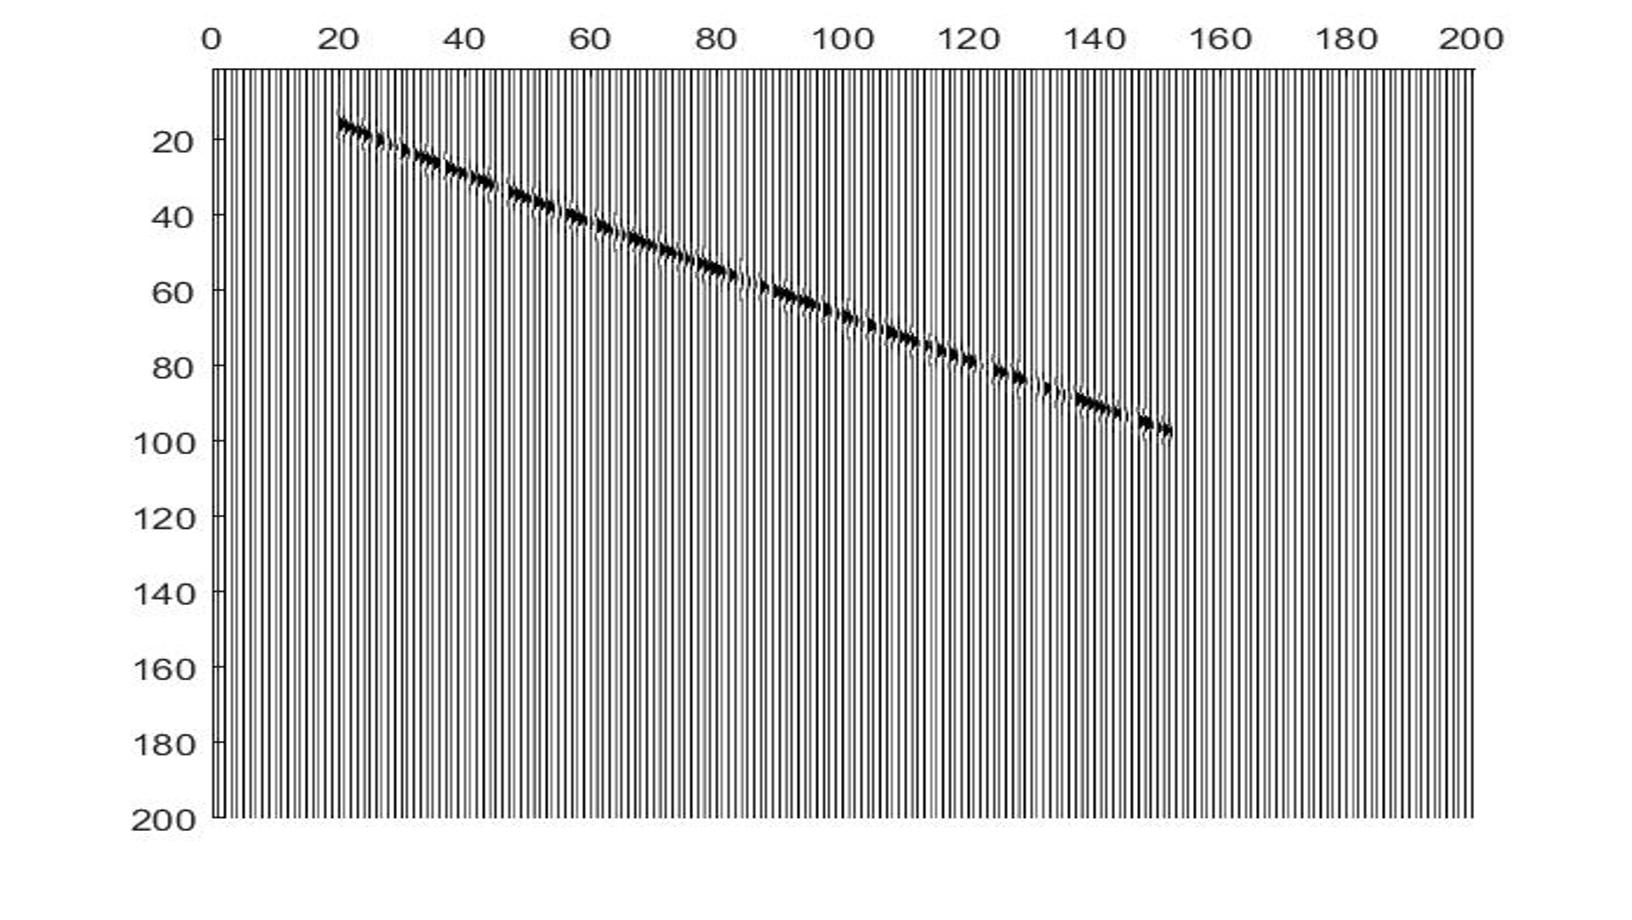signal: (325, 102, 1178, 443)
